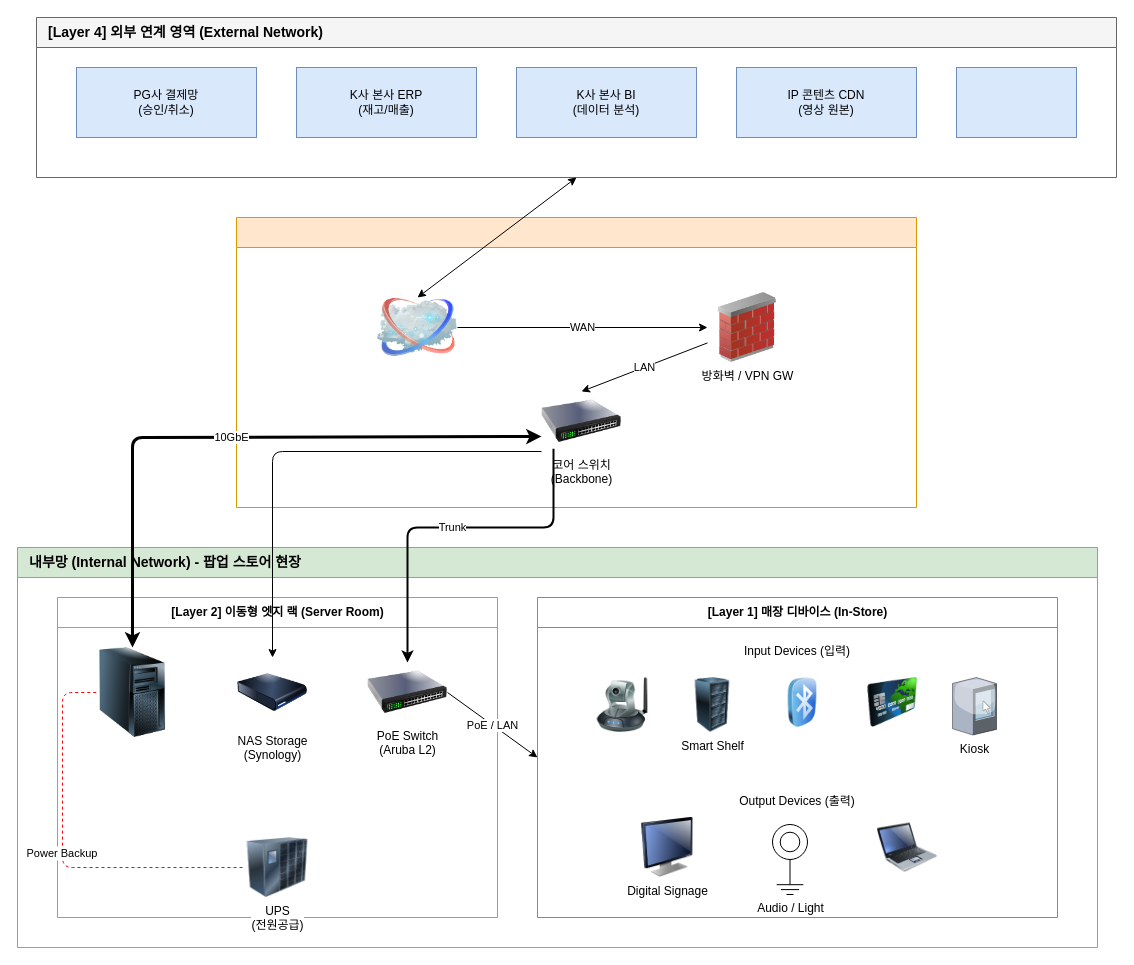
Image size: 1134x965. Some labels were removed from this diagram. Here are the shapes that lost their labels. From the top down, the box of each, then its label:
(956, 66, 1076, 138): 모바일 앱 사용자 (LTE/5G)
(377, 297, 457, 357): 인터넷 (ISP)
(236, 216, 916, 508): [Layer 3] 네트워크 & 보안 게이트웨이
(97, 647, 167, 737): Edge AI Server (Dell R750) ------------ Core/Media WAS - AI Engine - DB/Redis
(592, 677, 652, 732): AI Camera
(777, 677, 827, 727): RFID Reader
(867, 677, 917, 727): Speed Gate
(877, 817, 937, 877): Admin Tablet
